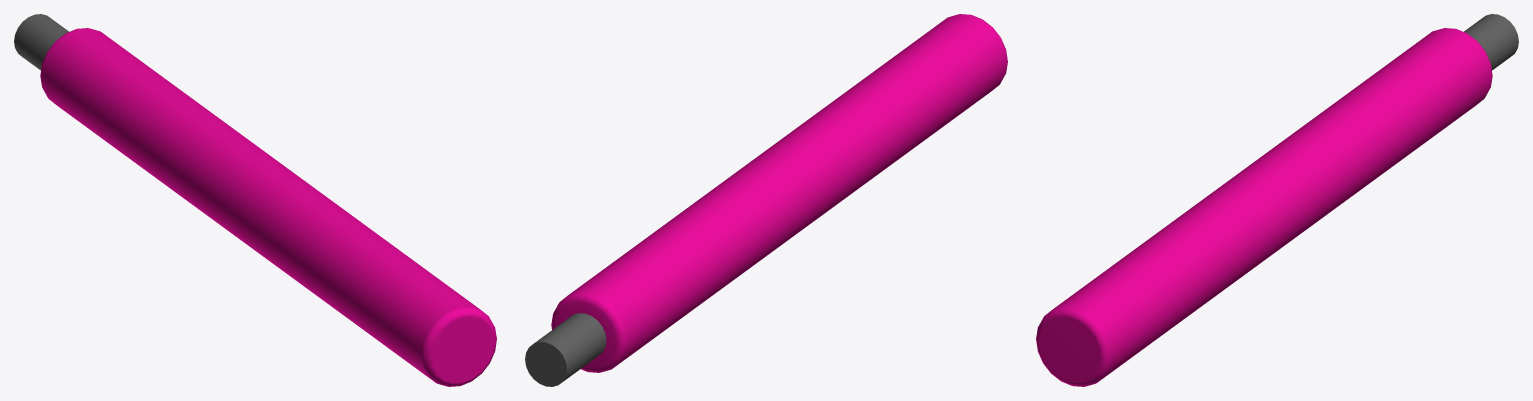
File: Stick.fbx
3 views of the same model, side by side, from view 1: azimuth 30°, elevation 25°; view 2: azimuth 150°, elevation 25°; view 3: azimuth 330°, elevation 25° (orthographic).
Visible parts, largest first — view 1: Rotation_Stick_Main_02; view 2: Rotation_Stick_Main_02; view 3: Rotation_Stick_Main_02.
Part boxes in pixels (x1,y1,x2,y2): Rotation_Stick_Main_02: (14,14,496,386); Rotation_Stick_Main_02: (525,14,1007,386); Rotation_Stick_Main_02: (1036,14,1518,386).
Bounding box in the file's own units: 1.07 × 1.07 × 10.58.
